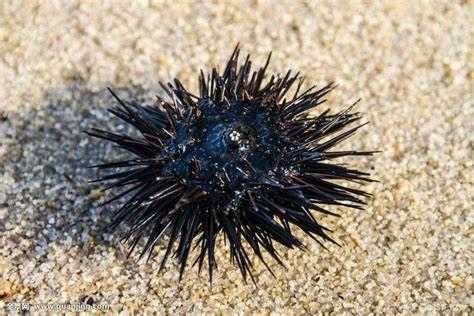urchin: (108, 53, 362, 266)
